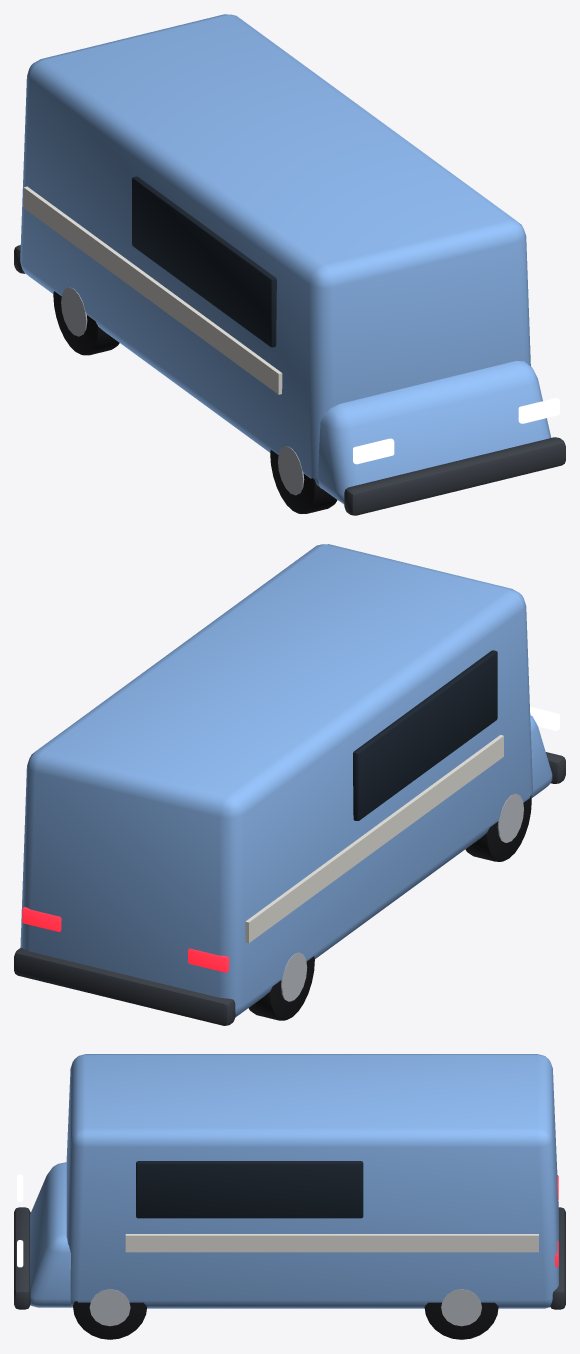
File: trafficVan.ef6cd5a7.glb
3 renders of one model, top to bottom at view 1: azimuth 30°, elevation 25°; view 2: azimuth 150°, elevation 25°; view 3: azimuth 270°, elevation 25°, orthographic. The views are drawn at different scales.
Visible parts, largest first — view 1: van; view 2: van; view 3: van.
Part boxes in pixels (left/top/right/bottom): van: left=14, top=14, right=565, bottom=515; van: left=14, top=544, right=565, bottom=1025; van: left=14, top=1054, right=565, bottom=1339.
Bounding box in the file's own units: 2.06 × 2.2 × 5.34.
